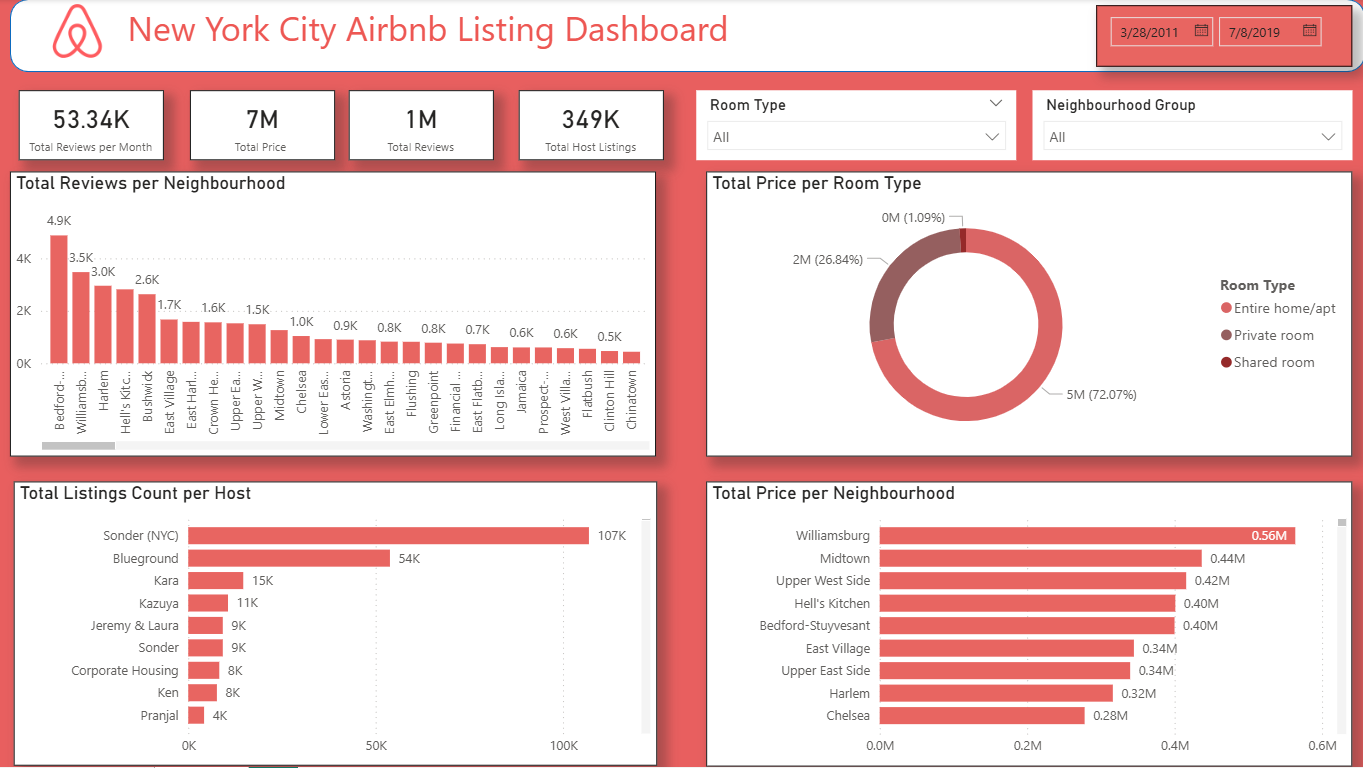

Layout of this report page (visuals, bound fields, positions):
{"tool":"powerbi","page":{"name":"Page 1","canvas":[1280,720],"ordinal":0},"visuals":[{"type":"shape","box":[9.6,0,1270.7,68.6],"z":0},{"type":"textbox","box":[9.6,0,1270.7,57.6],"z":1000},{"type":"image","box":[30.9,0,84.7,60.5],"z":2000},{"type":"card","fields":{"Values":["NYC_2019.reviews_per_month"]},"box":[17.6,85.5,135.9,65.6],"z":3000},{"type":"card","fields":{"Values":["NYC_2019.calculated_host_listings_count"]},"box":[486.3,85.5,135.9,65.6],"z":4000},{"type":"card","fields":{"Values":["NYC_2019.price"]},"box":[178.1,85.5,135.9,65.6],"z":5000},{"type":"card","fields":{"Values":["NYC_2019.number_of_reviews"]},"box":[327,85.5,135.9,65.6],"z":6000},{"type":"slicer","fields":{"Values":["NYC_2019.last_review"]},"box":[1027.8,5.9,240.2,57.4],"z":7000},{"type":"barChart","title":"Total Listings Count per Host","fields":{"Category":["NYC_2019.host_name"],"Y":["NYC_2019.calculated_host_listings_count"]},"box":[12.4,452.8,602.9,266.7],"z":8000},{"type":"clusteredBarChart","title":"Total Price per Neighbourhood","fields":{"Category":["NYC_2019.neighbourhood"],"Y":["NYC_2019.price"]},"box":[662.1,452.4,605.9,267.2],"z":9000},{"type":"clusteredColumnChart","title":"Total Reviews per Neighbourhood","fields":{"Category":["NYC_2019.neighbourhood"],"Y":["NYC_2019.reviews_per_month"]},"box":[9.4,161.7,605.9,267.2],"z":10000},{"type":"donutChart","title":"Total Price per Room Type","fields":{"Series":["NYC_2019.room_type"],"Y":["NYC_2019.price"]},"box":[662.1,161.7,605.9,267.2],"z":11000},{"type":"slicer","fields":{"Values":["NYC_2019.room_type"]},"box":[652.7,85.5,300,65.6],"z":12000},{"type":"slicer","fields":{"Values":["NYC_2019.neighbourhood_group"]},"box":[968,85.5,300,65.6],"z":13000}]}

Visuals, with their boxes in screenshot pixels (x1, y1, x2, y2), scaled from the page's 1280x720 canvas onto the 1363x768 screenshot:
shape: <bbox>10, 0, 1362, 73</bbox>
textbox: <bbox>10, 0, 1362, 61</bbox>
image: <bbox>33, 0, 123, 65</bbox>
card - NYC_2019.reviews_per_month: <bbox>19, 91, 163, 161</bbox>
card - NYC_2019.calculated_host_listings_count: <bbox>518, 91, 663, 161</bbox>
card - NYC_2019.price: <bbox>190, 91, 334, 161</bbox>
card - NYC_2019.number_of_reviews: <bbox>348, 91, 493, 161</bbox>
slicer - NYC_2019.last_review: <bbox>1094, 6, 1350, 68</bbox>
"Total Listings Count per Host" barChart: <bbox>13, 483, 655, 767</bbox>
"Total Price per Neighbourhood" clusteredBarChart: <bbox>705, 483, 1350, 767</bbox>
"Total Reviews per Neighbourhood" clusteredColumnChart: <bbox>10, 172, 655, 457</bbox>
"Total Price per Room Type" donutChart: <bbox>705, 172, 1350, 457</bbox>
slicer - NYC_2019.room_type: <bbox>695, 91, 1014, 161</bbox>
slicer - NYC_2019.neighbourhood_group: <bbox>1031, 91, 1350, 161</bbox>
